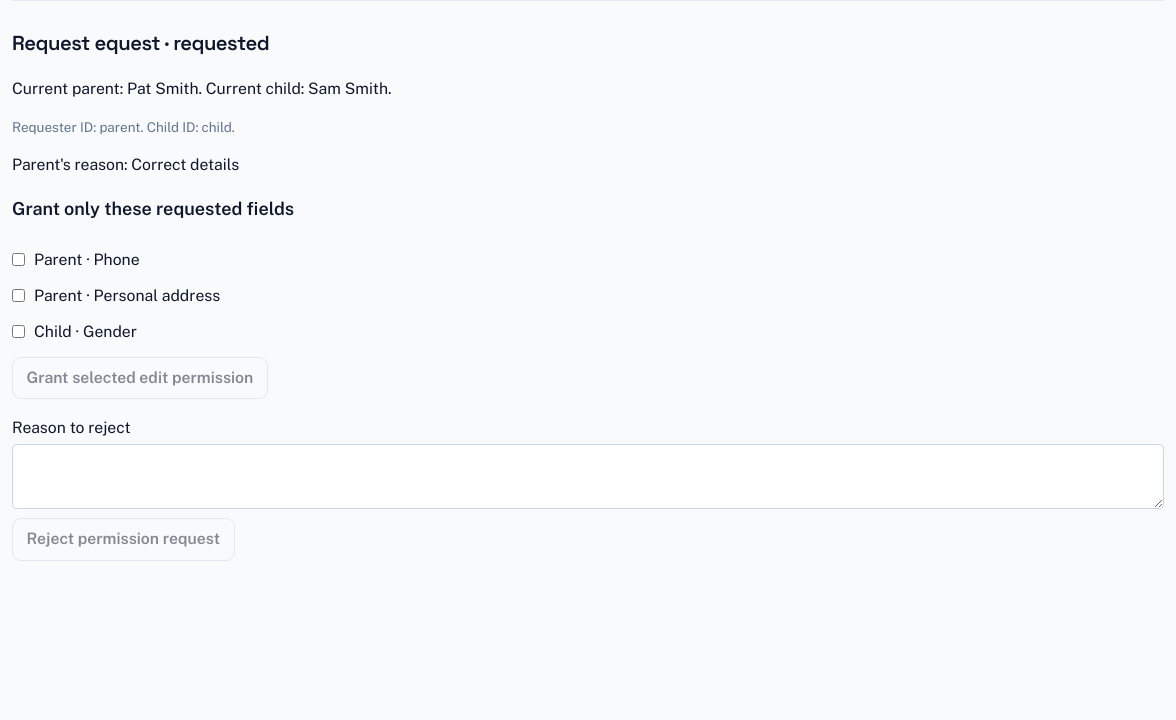
Test: failed decisions do not claim success or remove the pending request
Click the checkbox labelled "Parent · Phone": [18, 260] box left=12, top=253, right=25, bottom=266
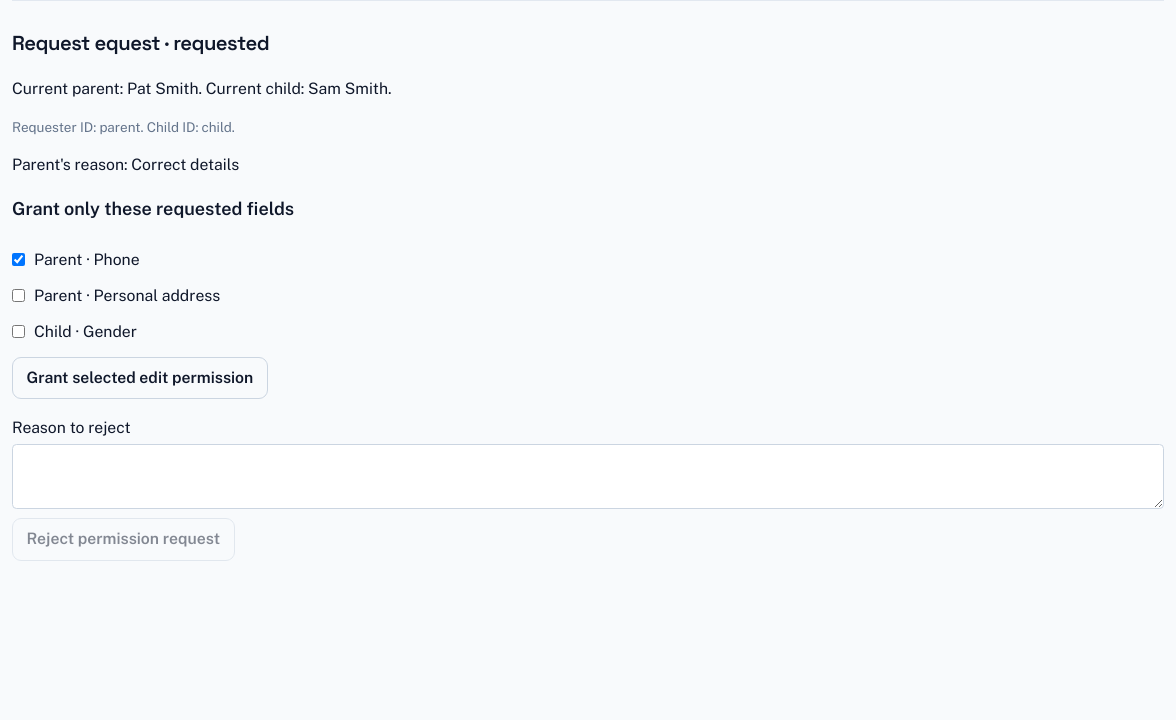
Click the button "Grant selected edit permission": [140, 378] box left=12, top=356, right=268, bottom=399
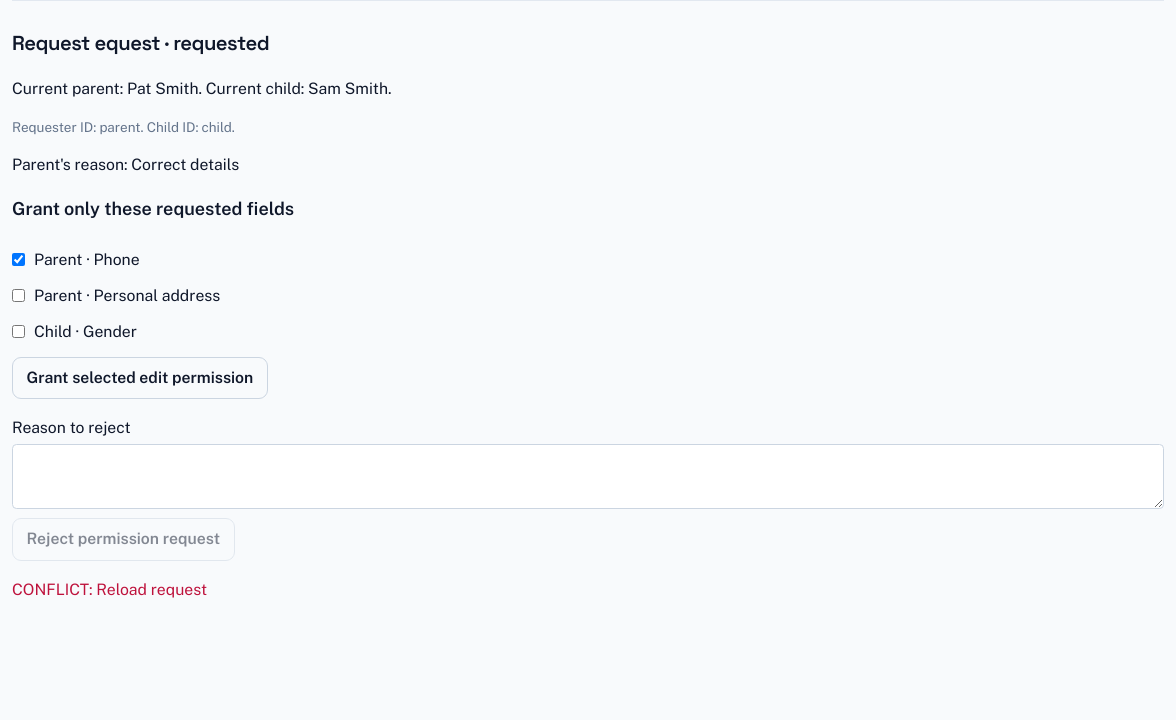
Check: the message reads "CONFLICT: Reload request", box left=12, top=580, right=207, bottom=598
